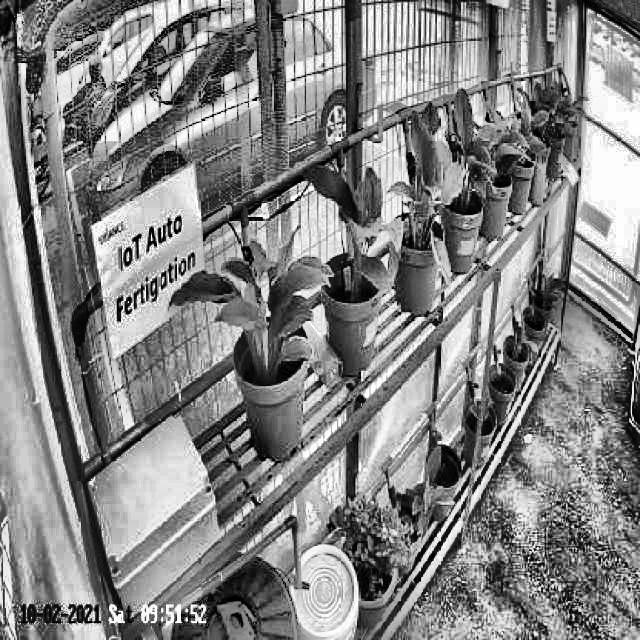plants: (168, 218, 332, 384), (302, 158, 406, 296), (388, 100, 461, 292), (432, 80, 503, 218)
